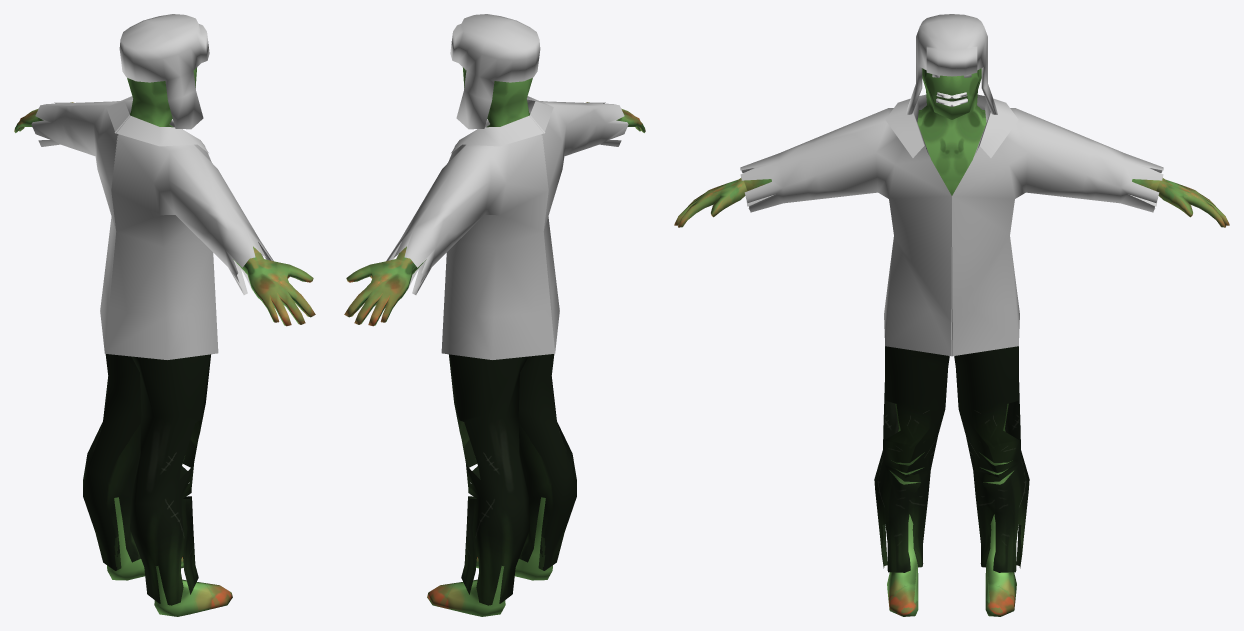
Rendered from zombie5.fbx.
3 views of the same model, side by side, from view 1: azimuth 30°, elevation 25°; view 2: azimuth 150°, elevation 25°; view 3: azimuth 270°, elevation 25° (orthographic).
Visible parts, largest first — view 1: base shirt.001, pants, body, Cylinder; view 2: base shirt.001, pants, body, Cylinder; view 3: base shirt.001, pants, body, Cylinder.
Boxes of the visible parts, box(x1,y1,x2,y2) form: base shirt.001: box(31, 96, 273, 359); pants: box(83, 354, 210, 605); body: box(14, 67, 315, 616); Cylinder: box(119, 14, 209, 129); base shirt.001: box(386, 96, 628, 359); pants: box(449, 354, 576, 605); body: box(344, 67, 645, 616); Cylinder: box(450, 14, 540, 129); base shirt.001: box(740, 94, 1163, 356); pants: box(874, 346, 1029, 572); body: box(674, 68, 1229, 616); Cylinder: box(906, 14, 997, 114).
Size of the model in its own units: 36.58 by 190 by 167.
